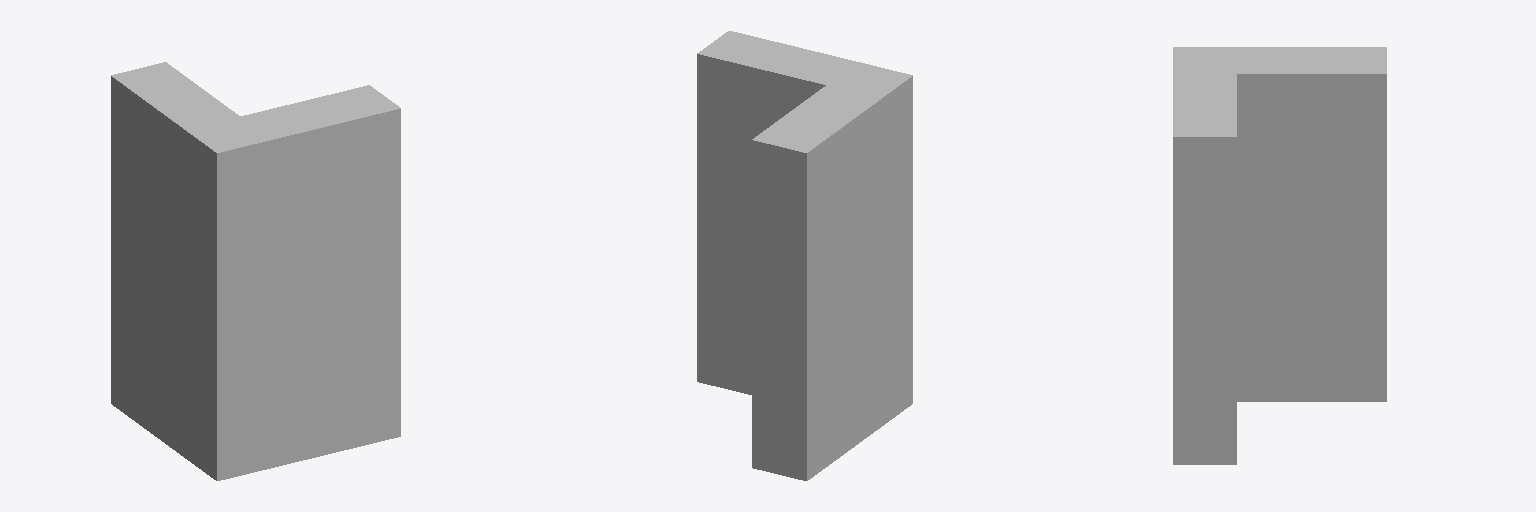
The model's file is wall_corner.obj.
3 renders of one model, left to right at view 1: azimuth 30°, elevation 25°; view 2: azimuth 150°, elevation 25°; view 3: azimuth 270°, elevation 25°, orthographic.
Visible parts, largest first — view 1: object 1; view 2: object 1; view 3: object 1.
Boxes of the visible parts, <box> form: object 1: <box>111,62,400,480</box>; object 1: <box>697,31,912,480</box>; object 1: <box>1173,47,1386,464</box>.
Size of the model in its own units: 1 by 1.7 by 1.